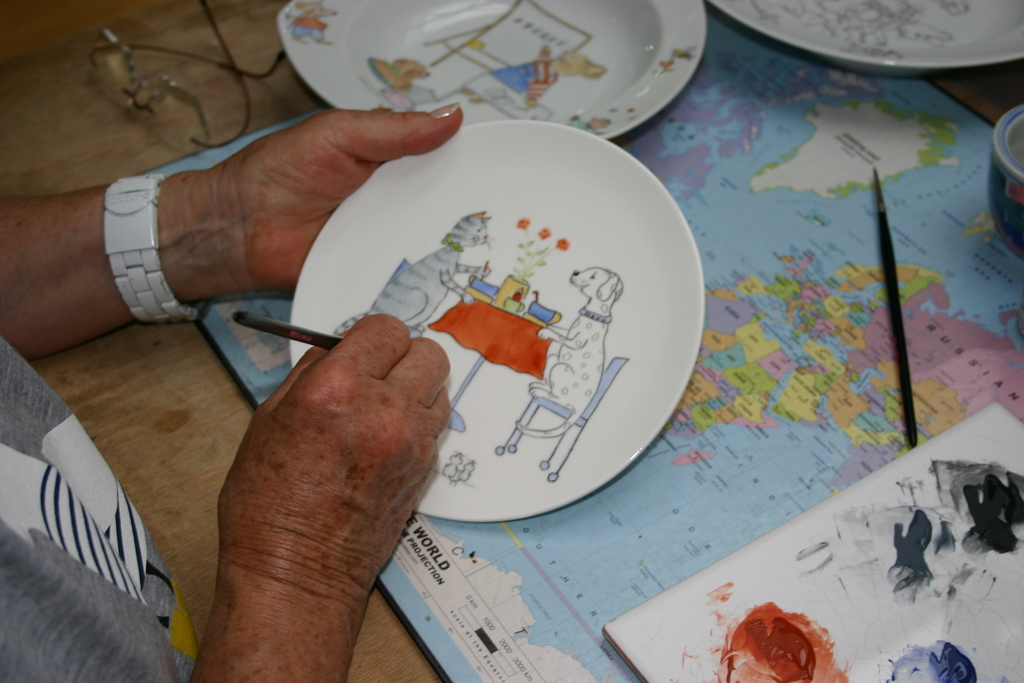plate: (711, 0, 1023, 72)
